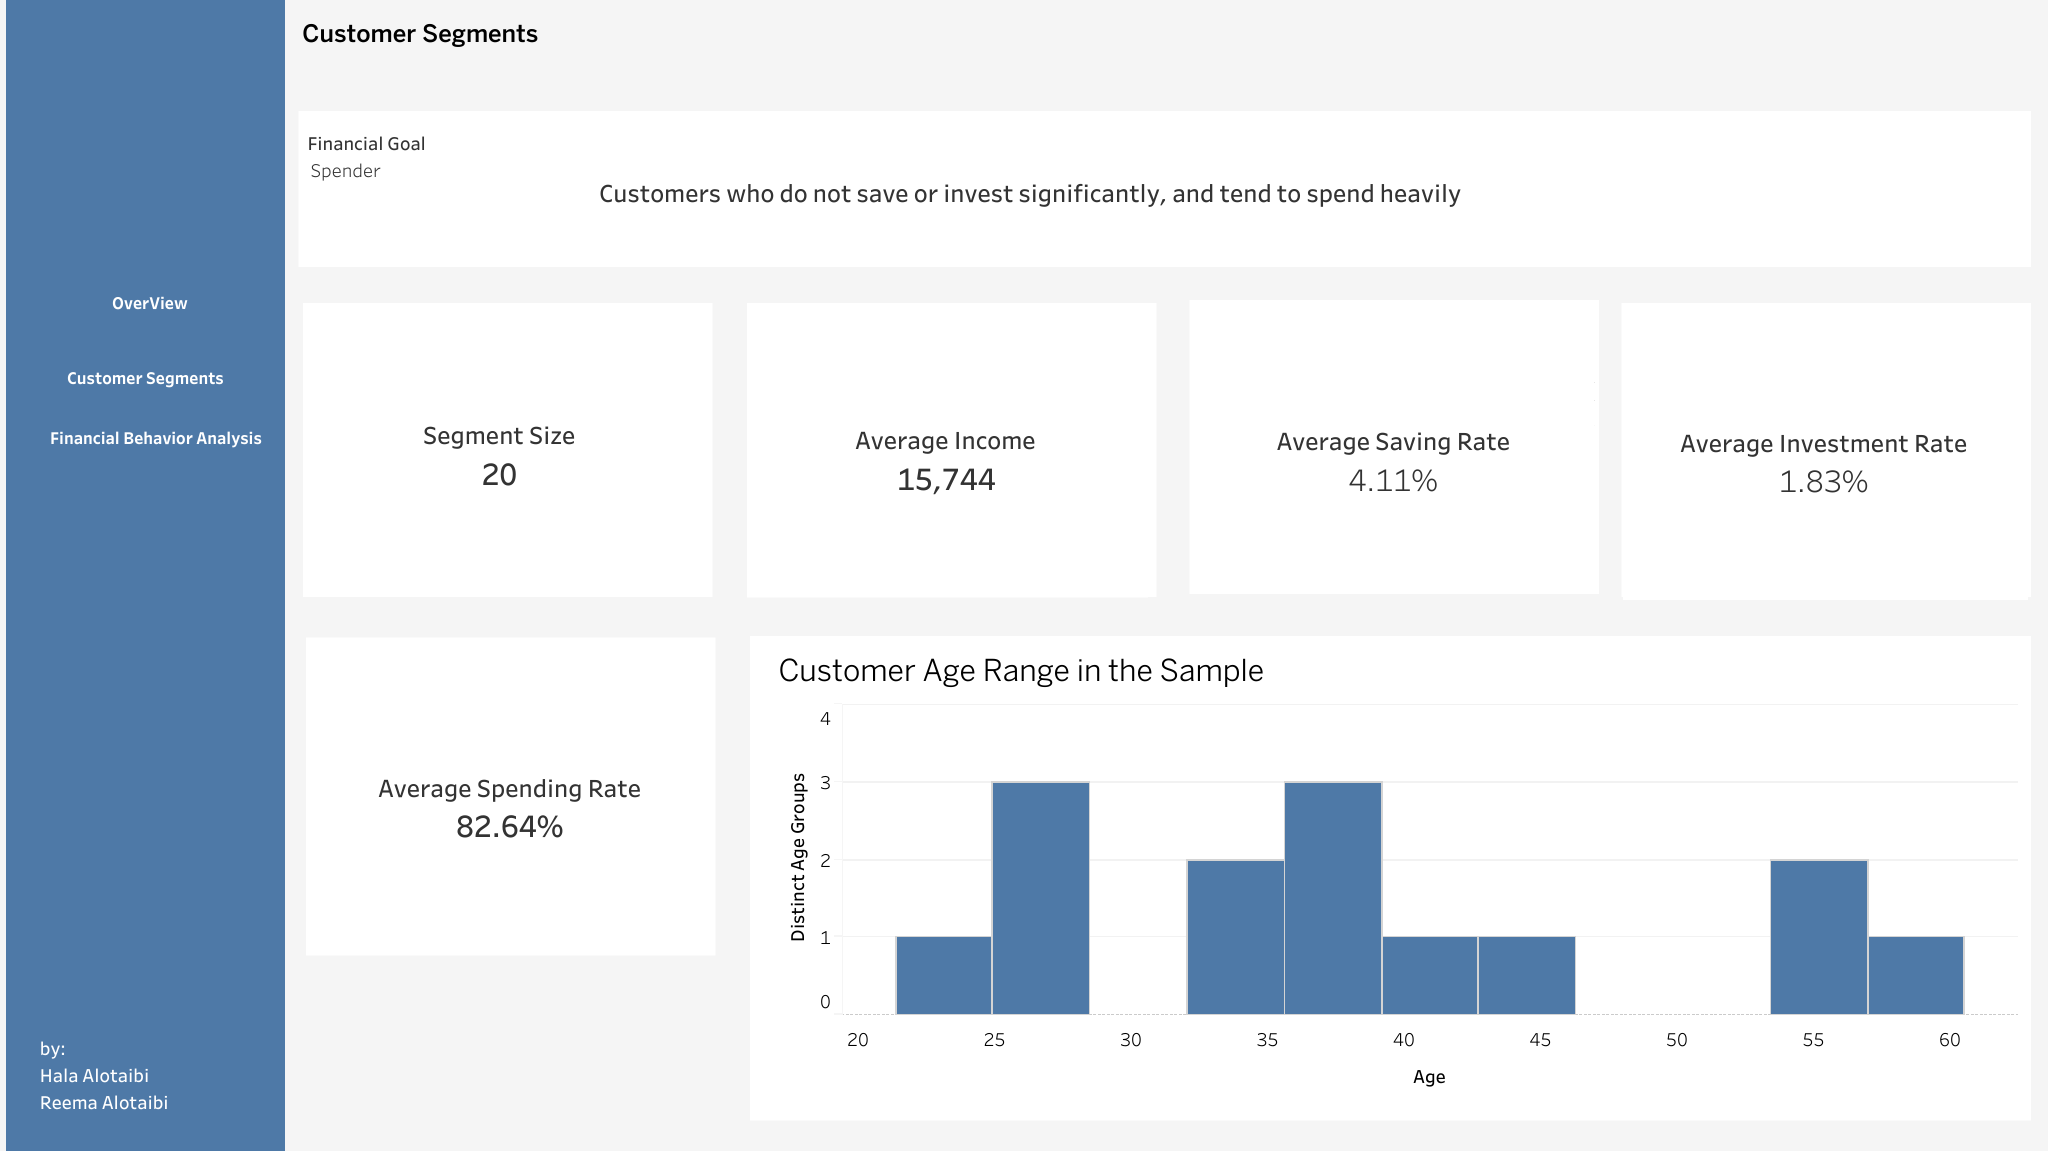

The page's visual inventory and layout, read from the dashboard file:
{"tool":"tableau","page":{"name":"Customer Segments","canvas":[1366,768],"ordinal":0},"visuals":[{"type":"text","box":[199,7,244,30]},{"type":"worksheet","title":"Sheet 15","mark":"Automatic","box":[392,84,943,84]},{"type":"filter","title":"Sheet 15","param":"[federated.18u8vej0kb0r1h136gkt71jmwwfj].[none:Financial_Goal:nk]","box":[205,85,160,62]},{"type":"dashboard-object","box":[18,175,164,52]},{"type":"worksheet","title":"Sheet 11","mark":"Automatic","box":[498,202,266,195]},{"type":"worksheet","title":"Sheet 12","mark":"Automatic","box":[1082,203,269,196]},{"type":"worksheet","title":"Sheet 9","mark":"Automatic","box":[206,205,255,182]},{"type":"worksheet","title":"Sheet 10","mark":"Automatic","box":[796,205,266,190]},{"type":"dashboard-object","box":[9,229,176,44]},{"type":"dashboard-object","box":[16,269,176,44]},{"type":"worksheet","title":"Sheet 14","mark":"Automatic","rows":["Age"],"cols":["Age (bin)"],"box":[515,427,830,306]},{"type":"worksheet","title":"Sheet 13","mark":"Automatic","box":[206,431,269,201]},{"type":"text","box":[24,678,137,75]}]}

Visuals, with their boxes on the page's 1366x768 design canvas (x1, y1, x2, y2). These are canvas units, not pixel positions in the 2048x1151 screenshot, which may show the page scaled, cropped or inside an application window:
text: (left=199, top=7, right=443, bottom=37)
"Sheet 15" worksheet: (left=392, top=84, right=1335, bottom=168)
"Sheet 15" filter: (left=205, top=85, right=365, bottom=147)
dashboard-object: (left=18, top=175, right=182, bottom=227)
"Sheet 11" worksheet: (left=498, top=202, right=764, bottom=397)
"Sheet 12" worksheet: (left=1082, top=203, right=1351, bottom=399)
"Sheet 9" worksheet: (left=206, top=205, right=461, bottom=387)
"Sheet 10" worksheet: (left=796, top=205, right=1062, bottom=395)
dashboard-object: (left=9, top=229, right=185, bottom=273)
dashboard-object: (left=16, top=269, right=192, bottom=313)
"Sheet 14" worksheet: (left=515, top=427, right=1345, bottom=733)
"Sheet 13" worksheet: (left=206, top=431, right=475, bottom=632)
text: (left=24, top=678, right=161, bottom=753)
